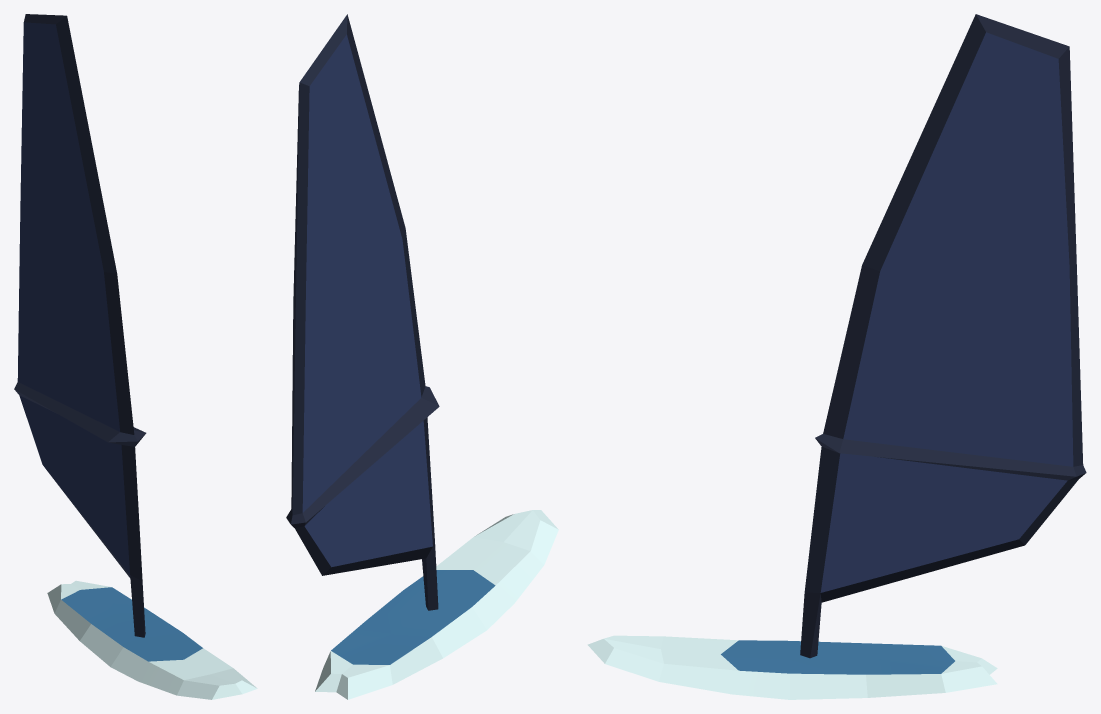
File: sport_windsurf.fbx
3 renders of one model, left to right at view 1: azimuth 30°, elevation 25°; view 2: azimuth 150°, elevation 25°; view 3: azimuth 270°, elevation 25°, orthographic. The views are drawn at different scales.
Parts seen in each view (by area): view 1: windsurf_sail, windsurf_base; view 2: windsurf_sail, windsurf_base; view 3: windsurf_sail, windsurf_base.
Boxes of the visible parts, x1=… form: windsurf_sail: x1=14, y1=14, x2=146, y2=637; windsurf_base: x1=47, y1=580, x2=257, y2=699; windsurf_sail: x1=286, y1=14, x2=439, y2=610; windsurf_base: x1=315, y1=510, x2=558, y2=699; windsurf_sail: x1=800, y1=14, x2=1086, y2=658; windsurf_base: x1=587, y1=635, x2=997, y2=699.
Size of the model in its own units: 30.64 by 200 by 137.
